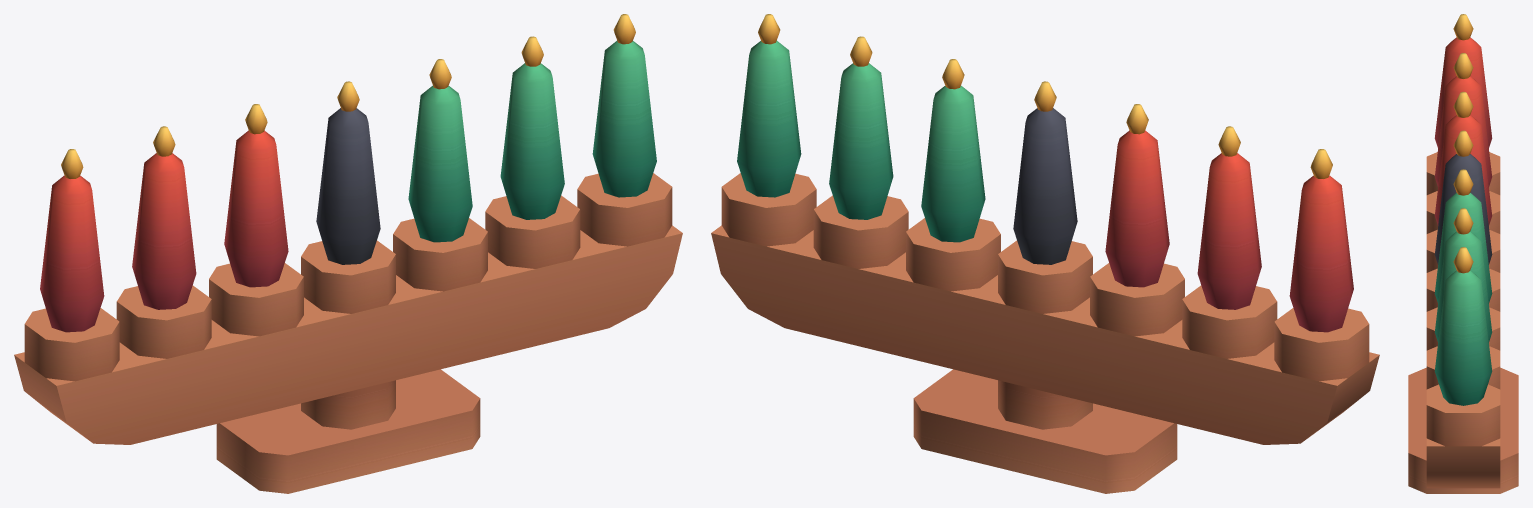
File: kinara.glb
3 views of the same model, side by side, from view 1: azimuth 30°, elevation 25°; view 2: azimuth 150°, elevation 25°; view 3: azimuth 270°, elevation 25° (orthographic). The views are drawn at different scales.
Visible parts, largest first — view 1: kwanzaa-kinara; view 2: kwanzaa-kinara; view 3: kwanzaa-kinara.
Part boxes in pixels (x1,y1,x2,y2): kwanzaa-kinara: (14,14,682,493); kwanzaa-kinara: (711,14,1379,493); kwanzaa-kinara: (1408,14,1518,493).
Size of the model in its own units: 0.85 by 0.4735 by 0.1499.
Materials: 1 (1 with a texture image).
